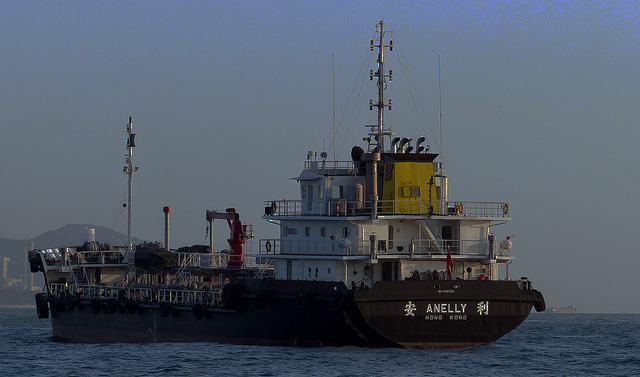tanker: (26, 24, 543, 347)
